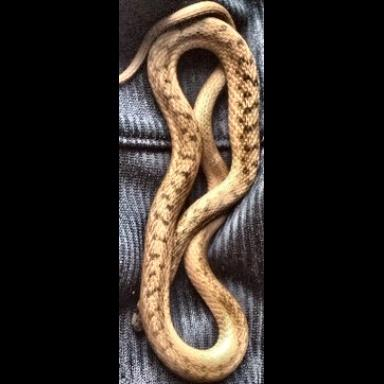snake: (122, 3, 263, 384)
